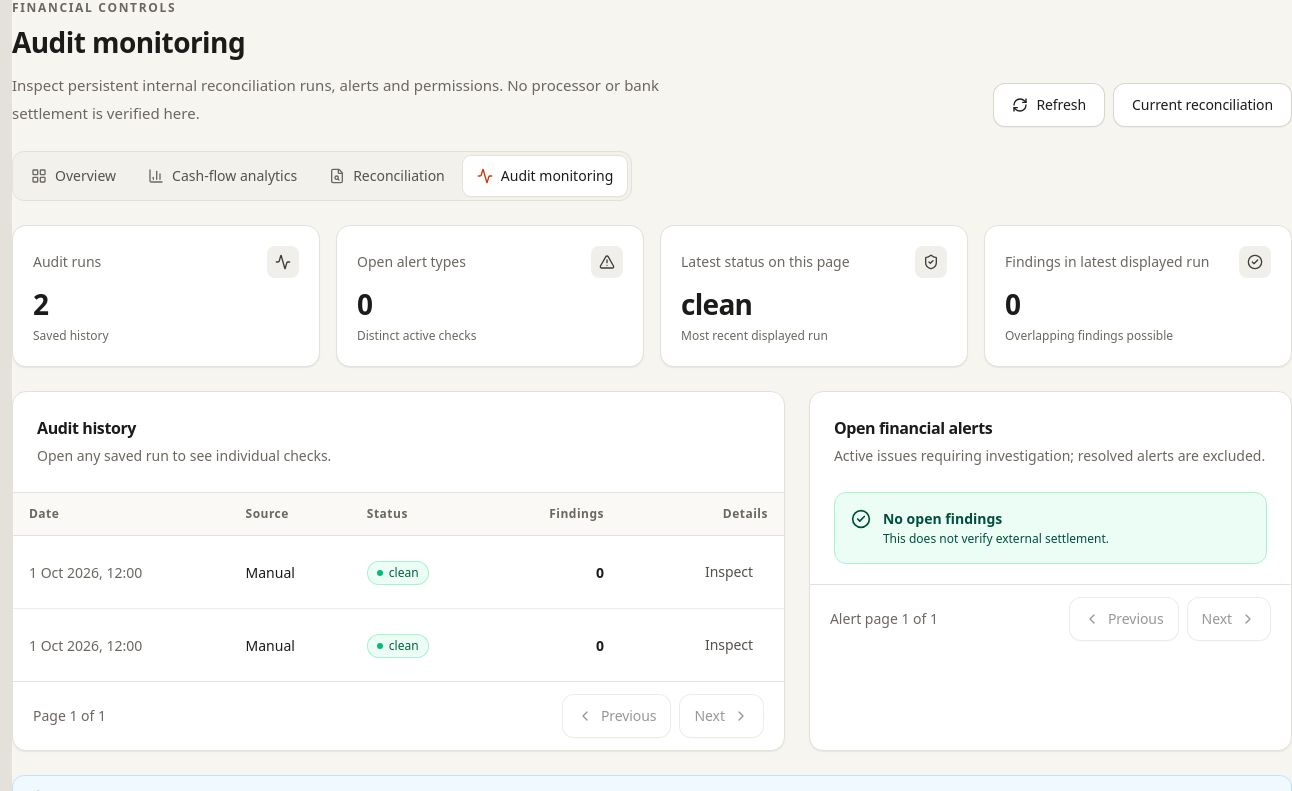
Test: financial audit detail inspection › does not replace a repeated inspection with an older result
Click the button with aria-label "Inspect audit 1". click: [729, 572]
box: [690,550,768,594]
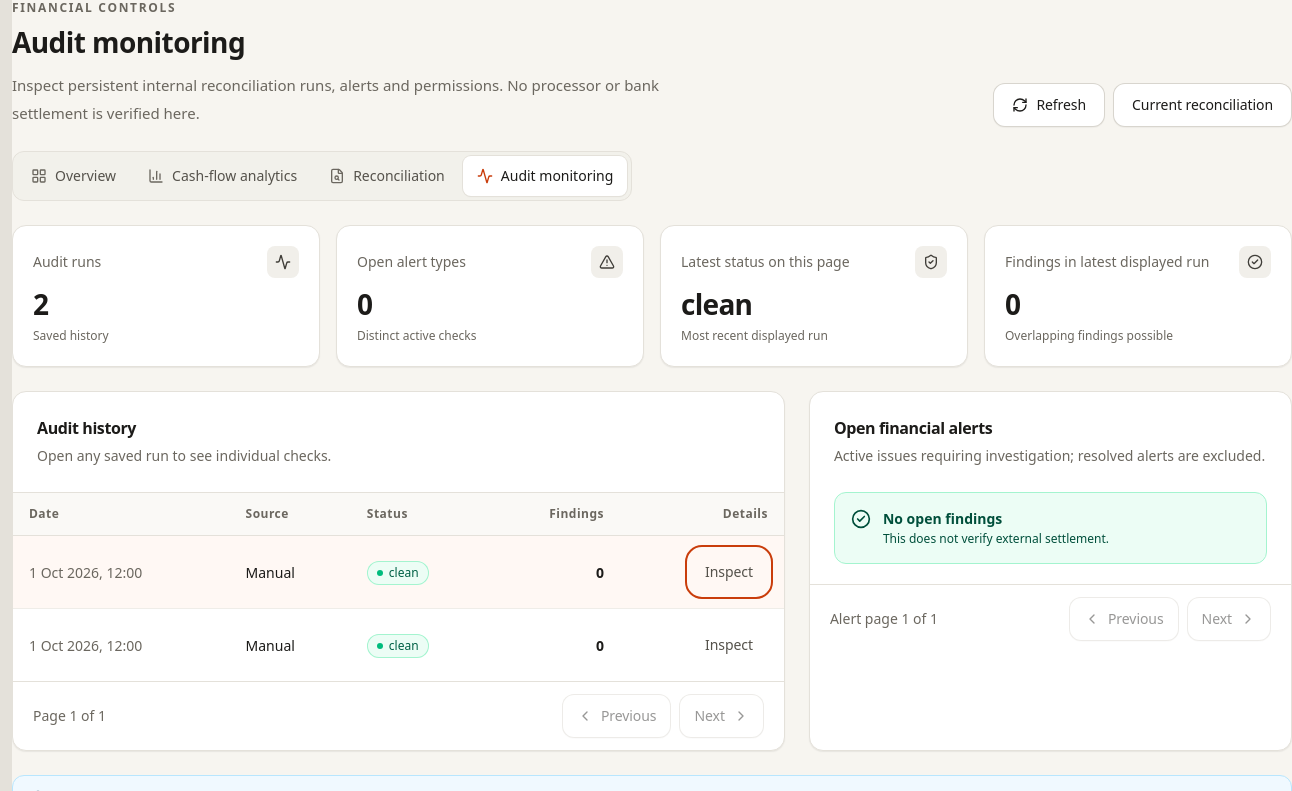
Click the button with aria-label "Inspect audit 1". click: [729, 572]
box: [690,550,768,594]
(page scrolled)
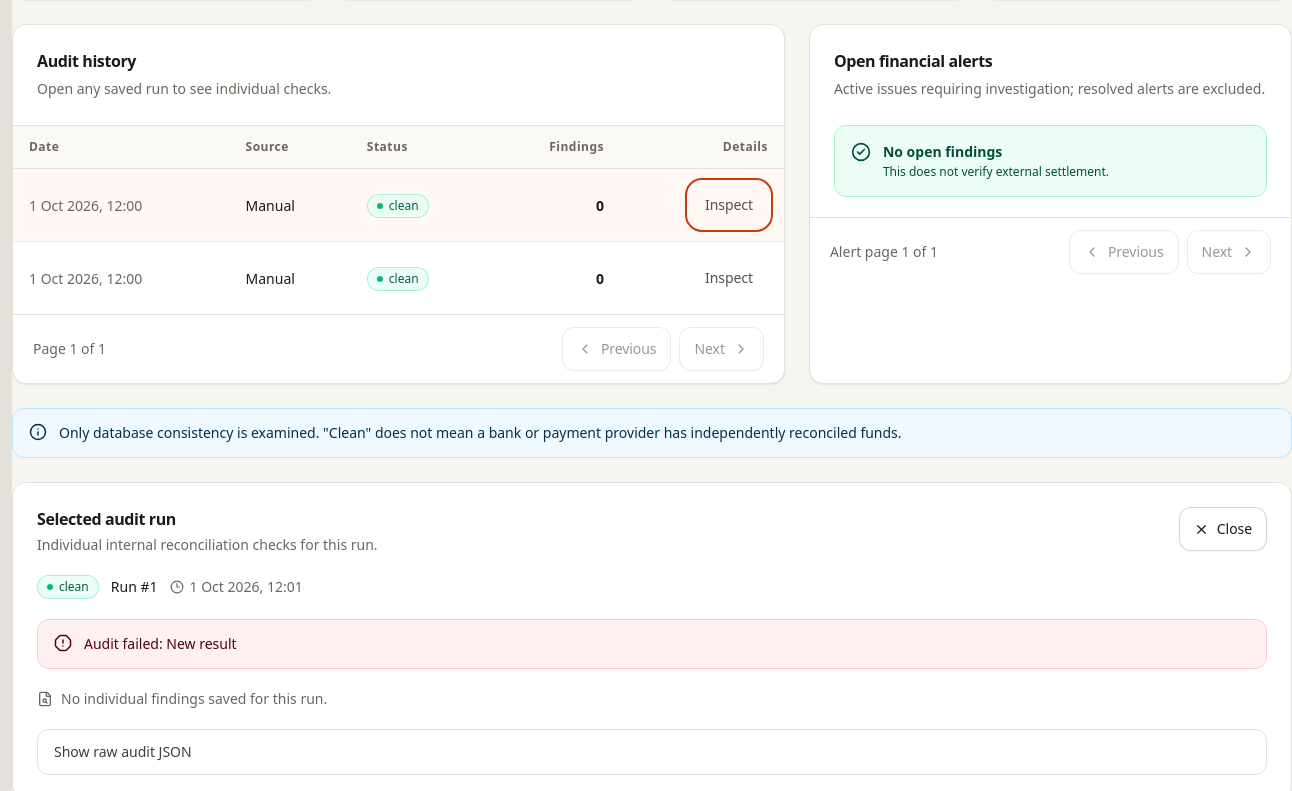
Now the text "Audit failed: New result" is shown, box [84,634,237,653]
